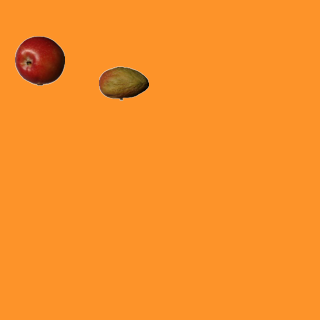Apple Braeburn: (14, 35, 64, 85)
Papaya: (98, 58, 148, 108)
